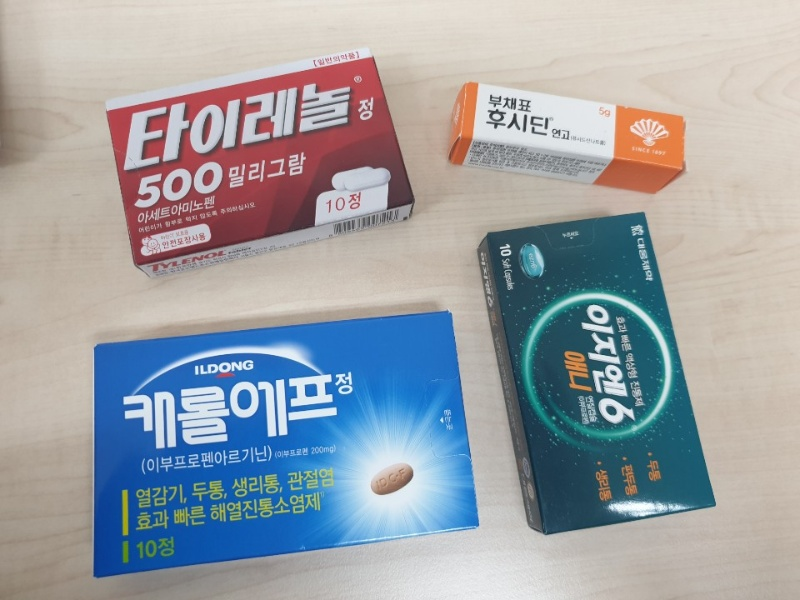ezn: (476, 211, 717, 533)
fucidin: (449, 82, 690, 193)
tylenol: (105, 49, 416, 277)
